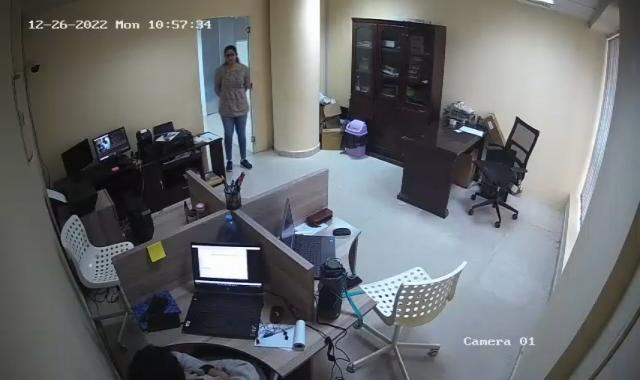no_hairnet: (222, 44, 238, 68)
